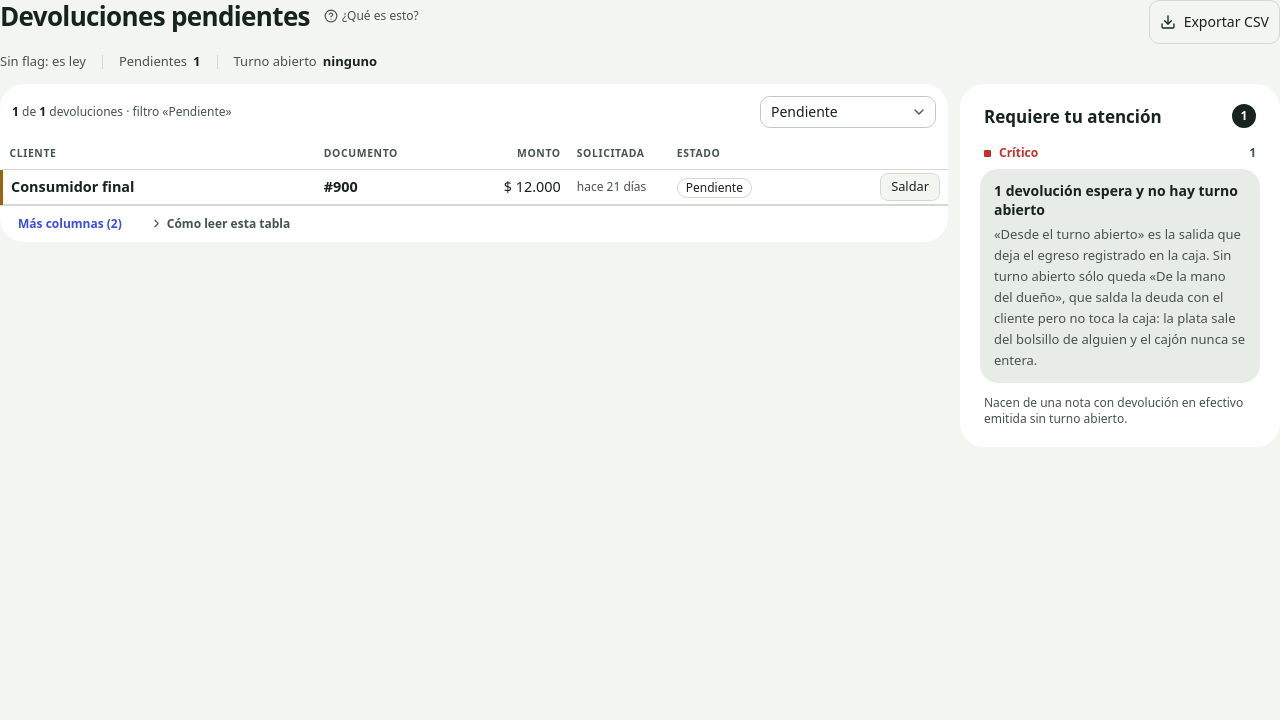
it: PendingRefundsPage › sin turno abierto, avisa y no deja confirmar «desde el turno»
Expected: the text "#900" is shown, [316,170,406,204]
Click the button "Saldar".
click(910, 187)  # box [880,173,940,201]
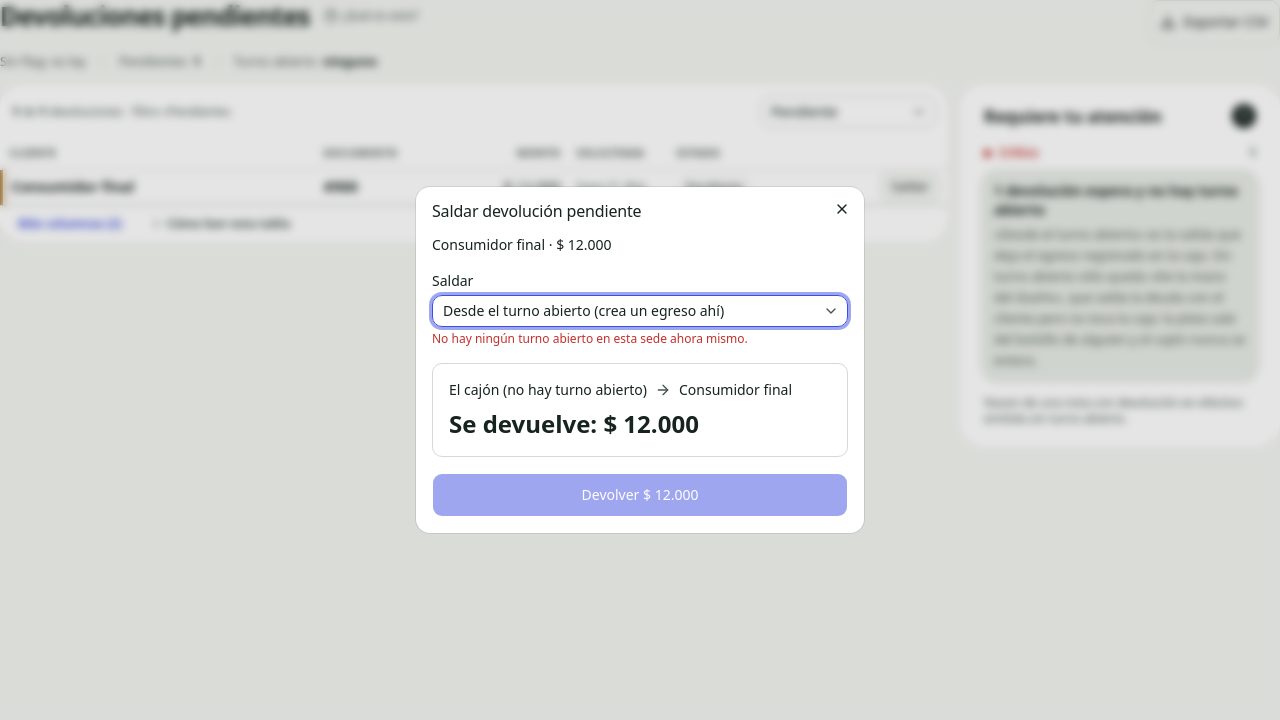
Expected: the message shows "No hay ningún turno abierto", [432,330,748,347]
Expected: the button "Devolver $ 12.000" is disabled, [432,473,848,517]
